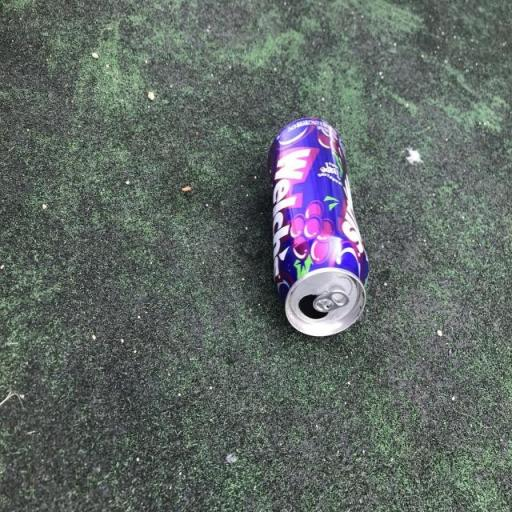metal: (256, 106, 376, 342)
